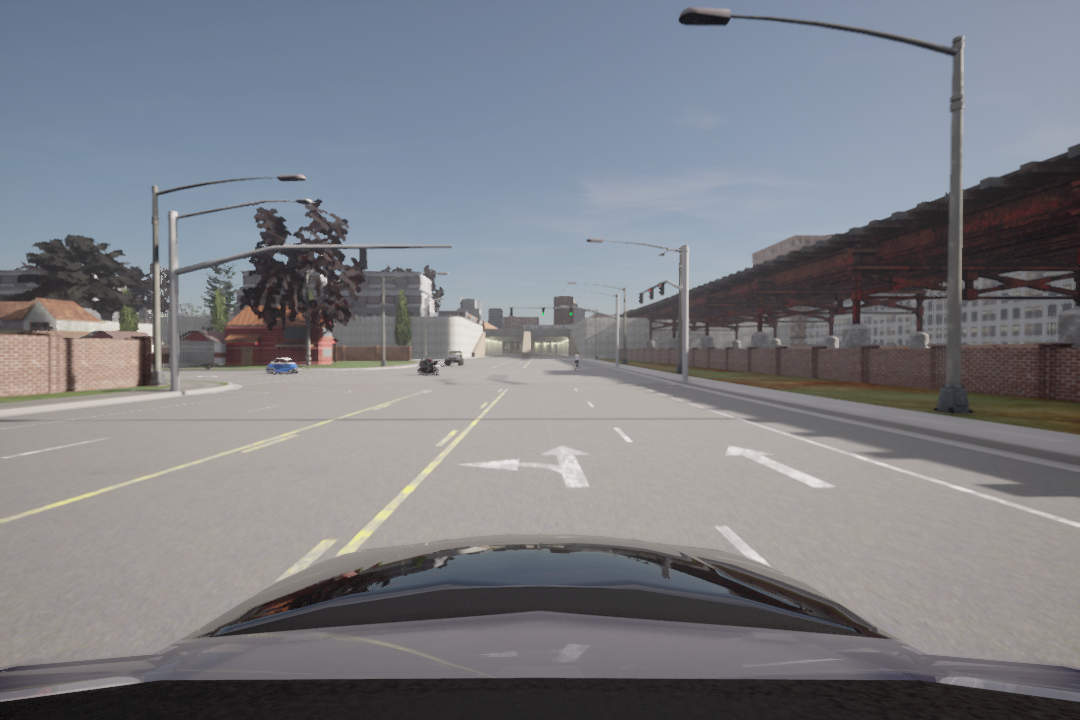RoadSign_forward: (714, 436, 839, 502)
RoadSign_forward_left: (457, 441, 603, 490)
